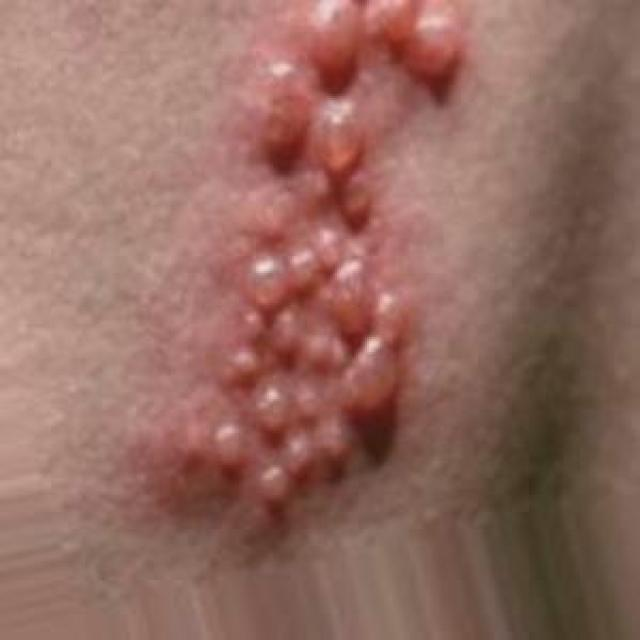Shingles: (209, 0, 463, 509)
